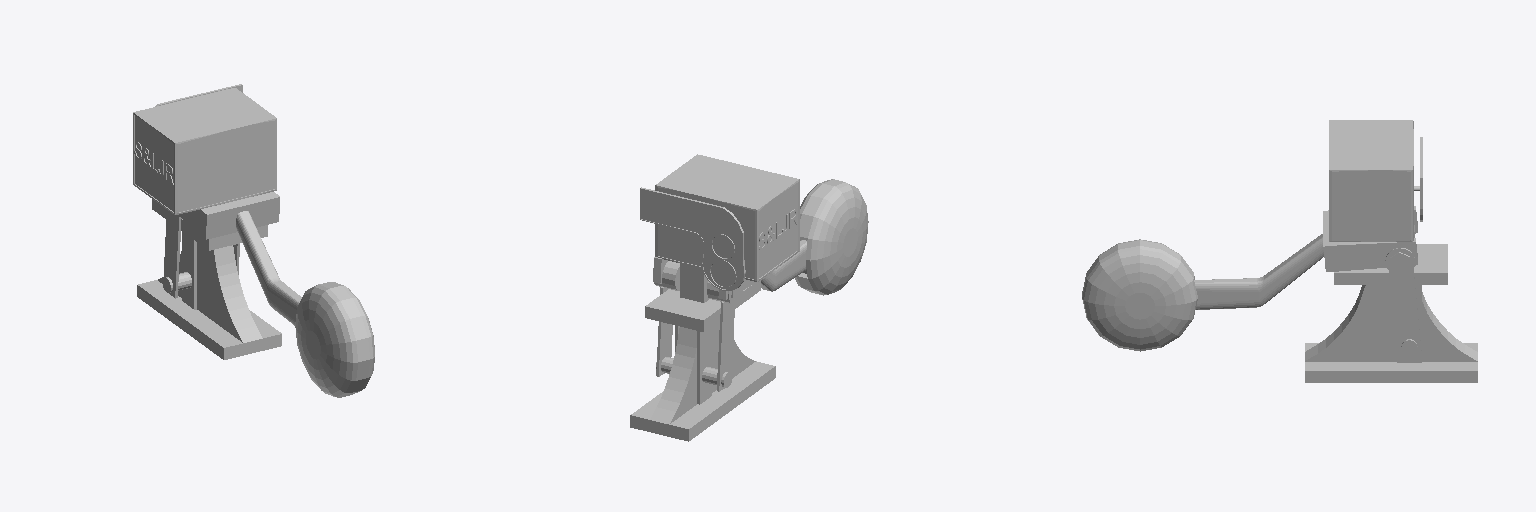
The model's file is sljrshuntdanger.obj.
3 views of the same model, side by side, from view 1: azimuth 30°, elevation 25°; view 2: azimuth 150°, elevation 25°; view 3: azimuth 270°, elevation 25° (orthographic).
Visible parts, largest first — view 1: ON_SIGNAL_Cylinder.002_Cylinder.005; view 2: ON_SIGNAL_Cylinder.002_Cylinder.005; view 3: ON_SIGNAL_Cylinder.002_Cylinder.005.
Boxes of the visible parts, x1,y1,x2,y2 form: ON_SIGNAL_Cylinder.002_Cylinder.005: [133, 84, 374, 397]; ON_SIGNAL_Cylinder.002_Cylinder.005: [630, 154, 868, 441]; ON_SIGNAL_Cylinder.002_Cylinder.005: [1082, 120, 1477, 382].
Bounding box in the file's own units: 0.526 × 0.9656 × 1.59.